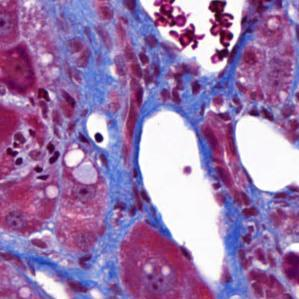inflammation: (4, 127, 41, 168), (244, 103, 279, 122), (45, 139, 63, 167)
